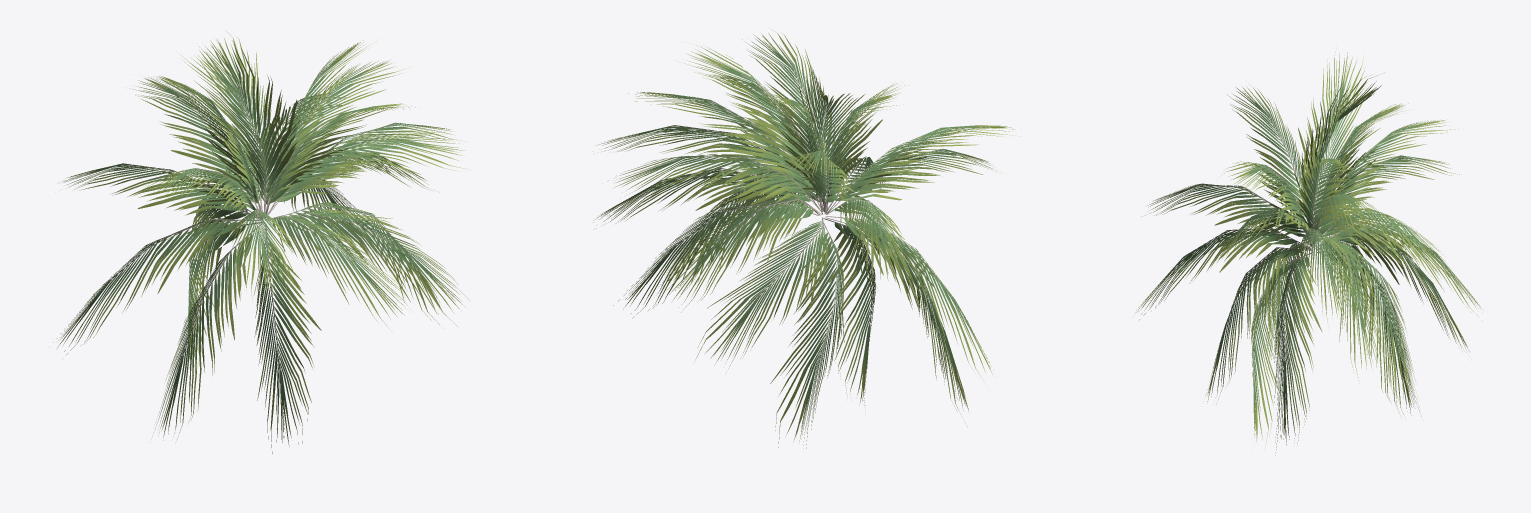
The model's file is m_palm_p2_9_leaf_0_lev2.glb.
The picture shows the model from 3 angles, left to right: view 1: azimuth 30°, elevation 25°; view 2: azimuth 150°, elevation 25°; view 3: azimuth 270°, elevation 25°; orthographic projection. The views are drawn at different scales.
Parts seen in each view (by area): view 1: m_palm_p2_9_leaf_0_lev2; view 2: m_palm_p2_9_leaf_0_lev2; view 3: m_palm_p2_9_leaf_0_lev2.
Part boxes in pixels (x1=…): m_palm_p2_9_leaf_0_lev2: x1=53, y1=30, x2=473, y2=453; m_palm_p2_9_leaf_0_lev2: x1=593, y1=29, x2=1019, y2=448; m_palm_p2_9_leaf_0_lev2: x1=1136, y1=49, x2=1483, y2=455.
Size of the model in its own units: 3.98 by 3.44 by 3.09.
Materials: 1 (1 with a texture image).
